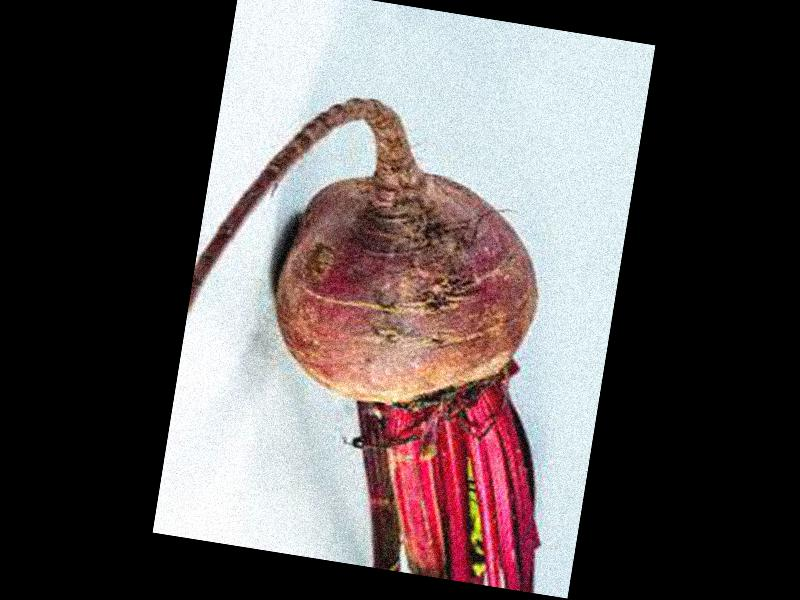Beet: (156, 76, 607, 593)
